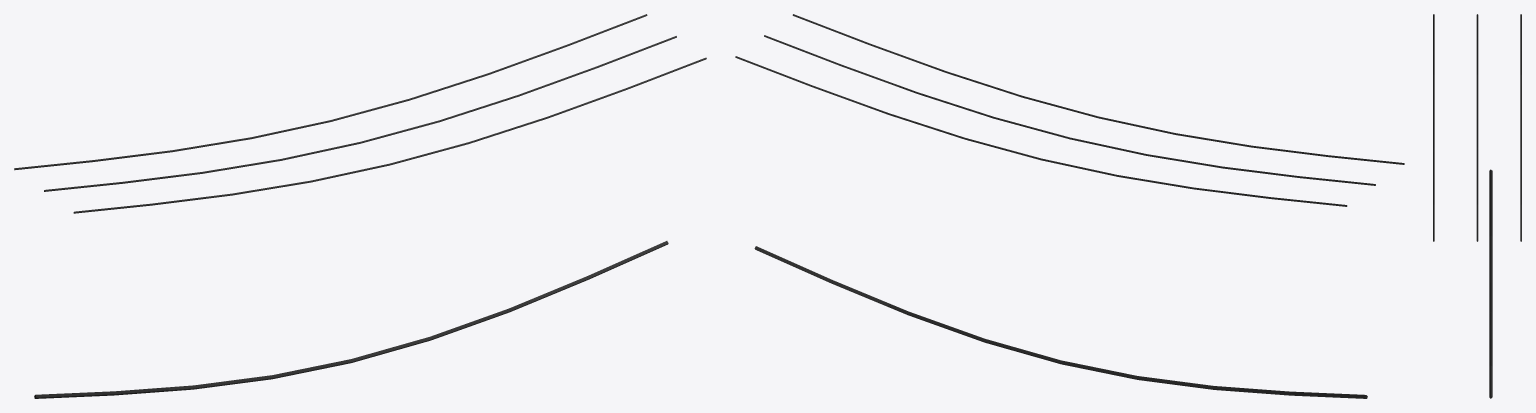
The model's file is wires.glb.
3 views of the same model, side by side, from view 1: azimuth 30°, elevation 25°; view 2: azimuth 150°, elevation 25°; view 3: azimuth 270°, elevation 25° (orthographic). The views are drawn at different scales.
Visible parts, largest first — view 1: wires; view 2: wires; view 3: wires.
Part boxes in pixels (<box>): wires: <box>14,14,706,398</box>; wires: <box>735,14,1404,398</box>; wires: <box>1433,14,1521,398</box>.
Size of the model in its own units: 8.01 by 3.11 by 1.32.
1 material, 1 textured.
